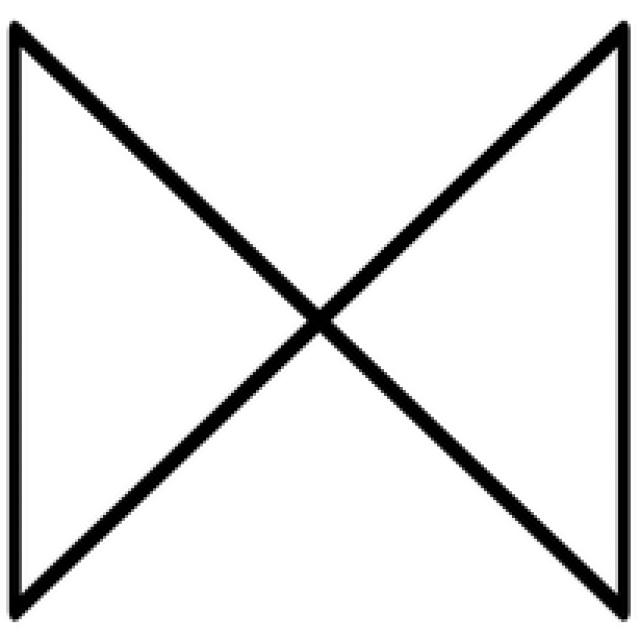Gate valve: (13, 25, 626, 614)
